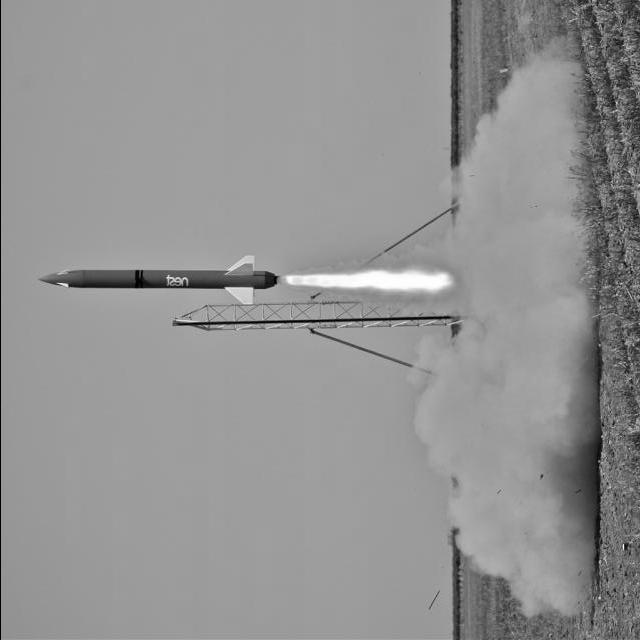Missile: (36, 255, 298, 303)
